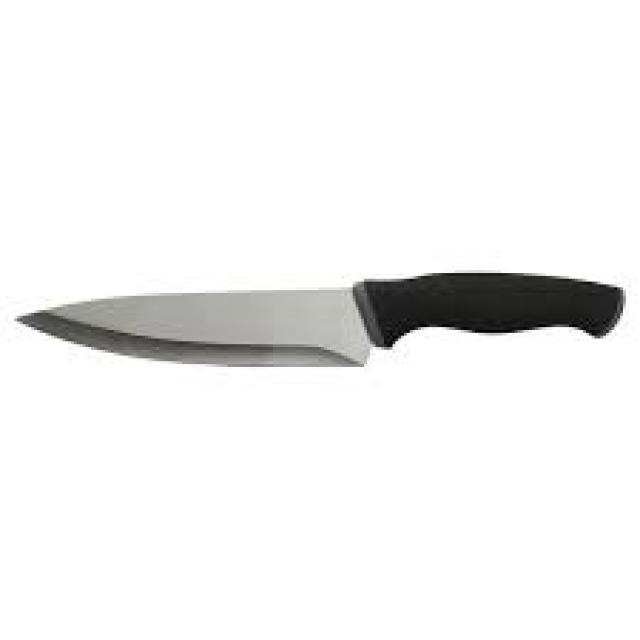Knife: (11, 267, 626, 367)
